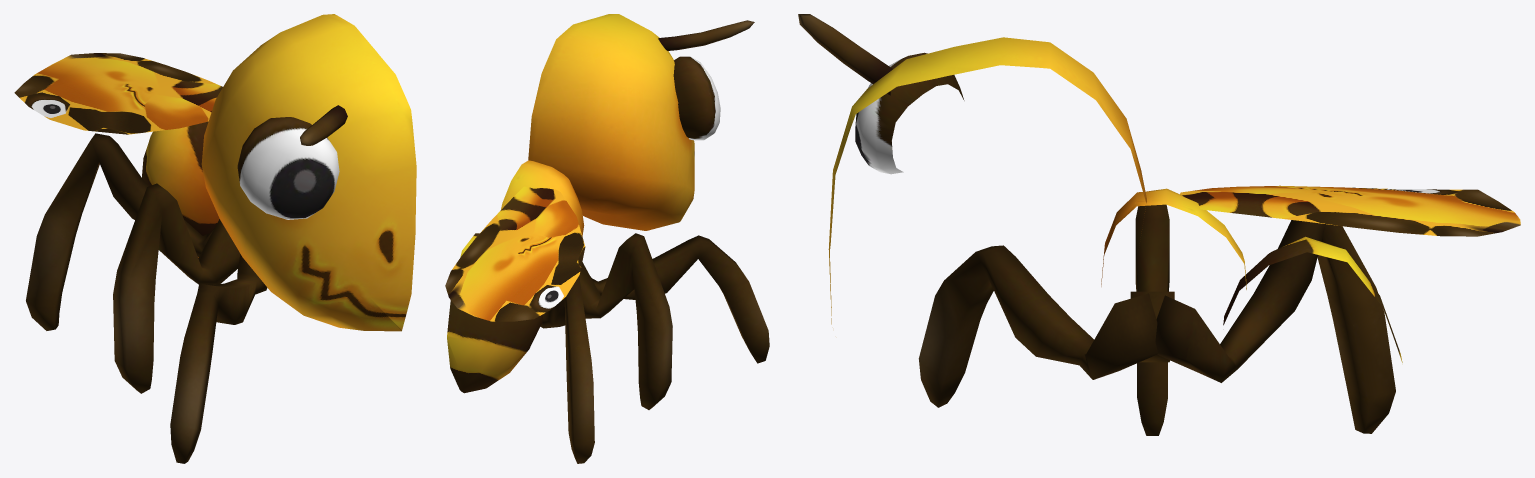
The model's file is bee_left.glb.
The picture shows the model from 3 angles, left to right: view 1: azimuth 30°, elevation 25°; view 2: azimuth 150°, elevation 25°; view 3: azimuth 270°, elevation 25°; orthographic projection. The views are drawn at different scales.
Parts seen in each view (by area): view 1: bee_left; view 2: bee_left; view 3: bee_left.
Boxes of the visible parts, box(x1,y1,x2,y2) form: bee_left: box(14, 14, 416, 463); bee_left: box(445, 14, 769, 463); bee_left: box(798, 14, 1520, 435).
Size of the model in its own units: 0.5129 by 0.8835 by 1.24.
Materials: 1 (1 with a texture image).
